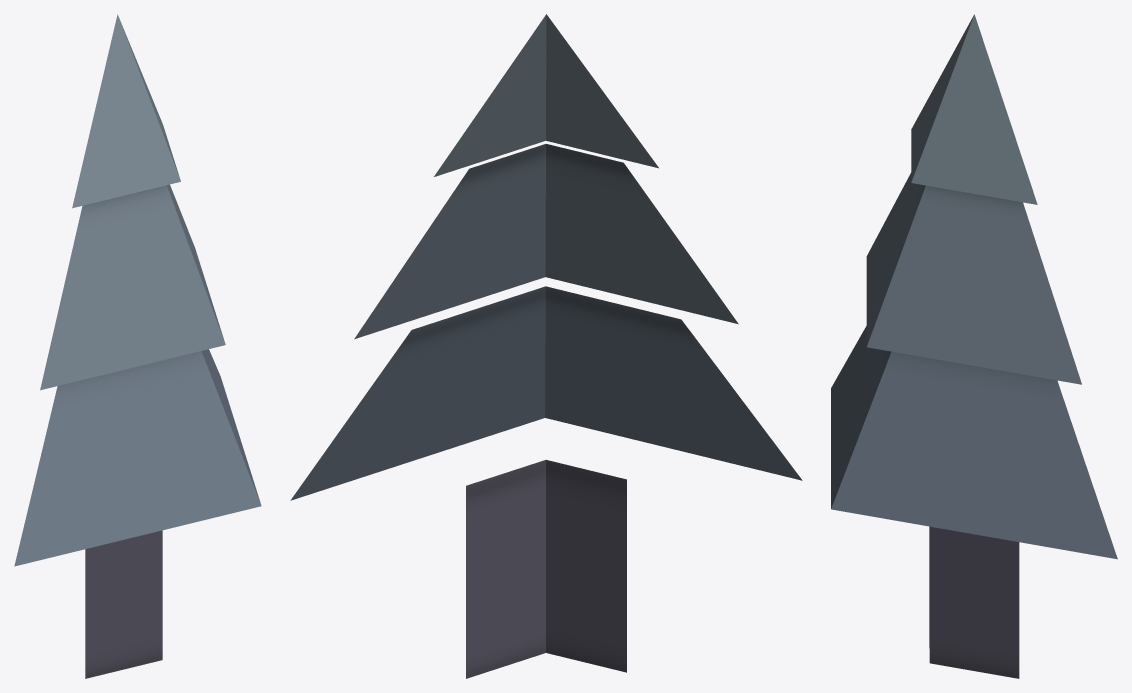
Rendered from Tree_07.FBX.
3 renders of one model, left to right at view 1: azimuth 30°, elevation 25°; view 2: azimuth 150°, elevation 25°; view 3: azimuth 270°, elevation 25°, orthographic. The views are drawn at different scales.
Parts seen in each view (by area): view 1: Tree_07; view 2: Tree_07; view 3: Tree_07.
Boxes of the visible parts, x1,y1,x2,y2 form: Tree_07: (14, 14, 261, 678); Tree_07: (290, 14, 802, 678); Tree_07: (831, 14, 1117, 678).
Bounding box in the file's own units: 10.78 × 18.74 × 7.64.
